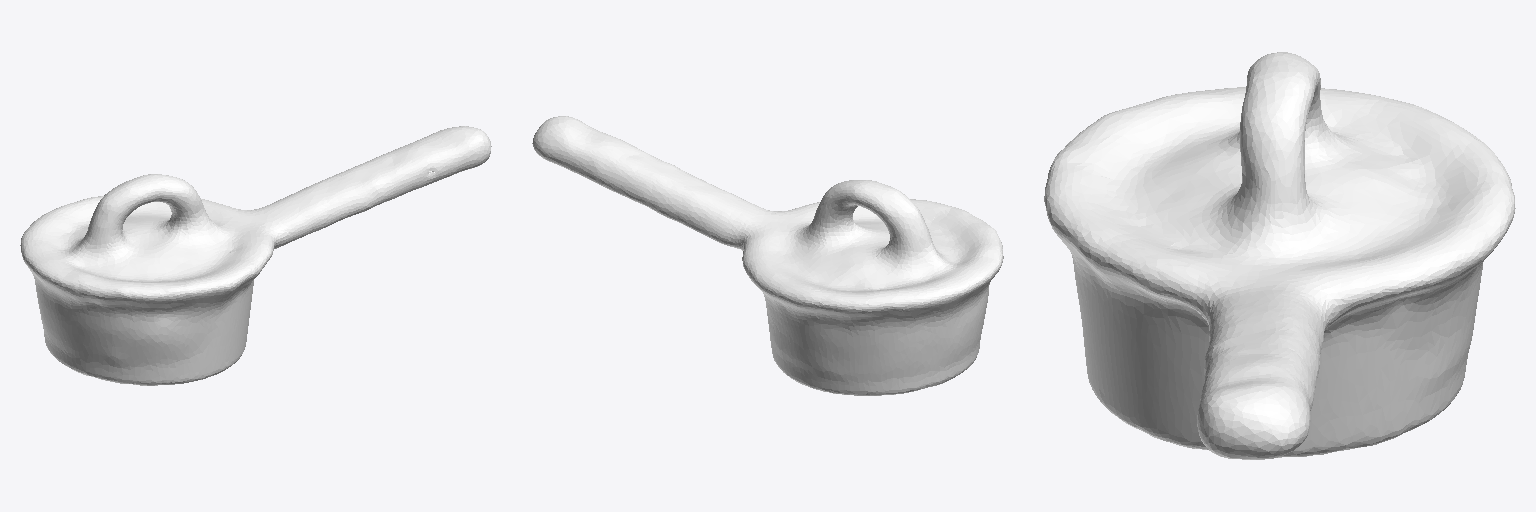
robot.urdf — pot:
<robot name="pot">
	<link name="_name">
		<visual>
			<origin rpy="0 0 0" xyz="-2.823268162970748e-02 -2.7348722234169583e-03 -8.712895214557647e-03" />
			<geometry>
				<mesh filename="pot/pot.obj" scale="1 1 1" />
			</geometry>
			<material name="texture">
				<color rgba="1.0 1.0 1.0 1.0" />
			</material>
		</visual>
		<collision>
			<geometry>
				<mesh filename="pot/pot_vhacd.obj" scale="1 1 1" />
			</geometry>
		<origin rpy="0 0 0" xyz="-2.823268162970748e-02 -2.7348722234169583e-03 -8.712895214557647e-03" /></collision>
		<inertial>
			<mass value="1.0" />
			<inertia ixx="1.0" ixy="0.0" ixz="0.0" iyy="1.0" iyz="0.0" izz="1.0" />
		</inertial>
	</link>
</robot>

--- Facts derived from the render (not from the file) ---
The picture shows the robot from 3 angles, left to right: view 1: azimuth 30°, elevation 25°; view 2: azimuth 150°, elevation 25°; view 3: azimuth 270°, elevation 25°; orthographic projection.
Robot: pot — 1 links, 0 joints (none); root link _name; default pose: all joints at 0.
Links seen in each view (by area): view 1: _name; view 2: _name; view 3: _name.
Link boxes in pixels (left/top/right/bottom): _name: left=20, top=126, right=491, bottom=385; _name: left=532, top=116, right=1003, bottom=395; _name: left=1044, top=52, right=1515, bottom=459.
Bounding box of the posed robot: 0.2849 × 0.1398 × 0.1041 m (x, y, z).
1 mesh visuals loaded from 1 distinct referenced files (1 OBJ).